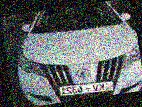car: (8, 0, 142, 107)
